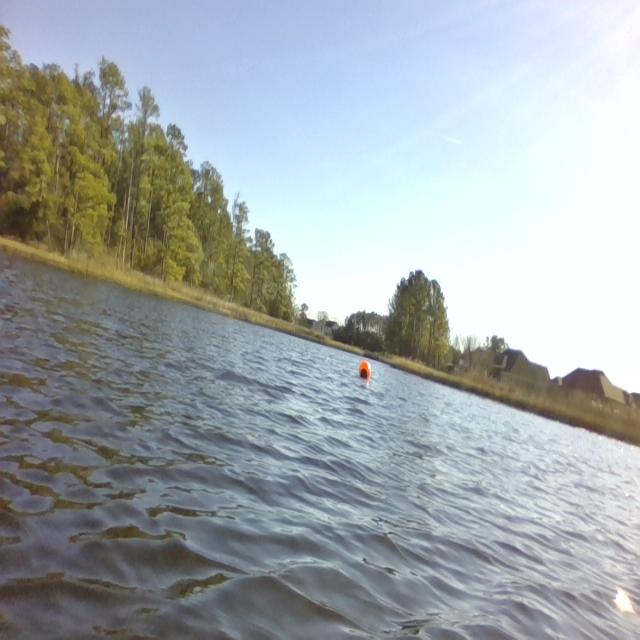Buoy: (357, 357, 375, 387)
